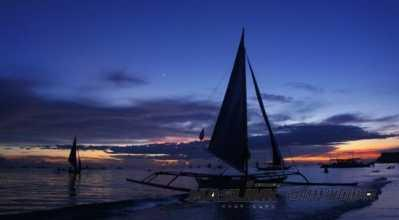fanchuan: (120, 26, 293, 197), (58, 134, 89, 181)
